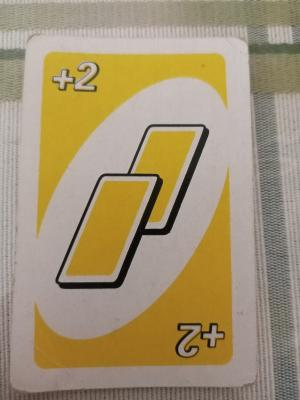-2: (162, 303, 235, 366), (47, 55, 109, 117)
yellow: (51, 123, 231, 298)
